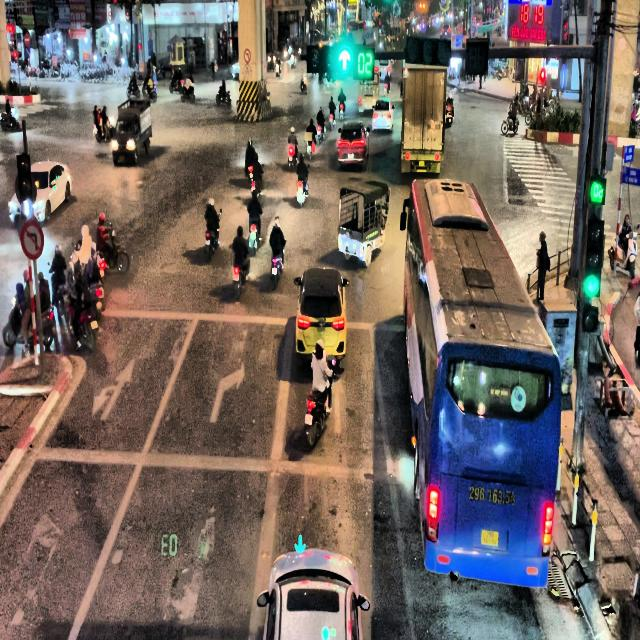lisence_plate: (466, 481, 517, 508), (474, 521, 506, 555), (480, 527, 499, 547), (418, 160, 426, 168), (348, 154, 354, 161), (380, 112, 384, 119), (367, 97, 371, 102)
